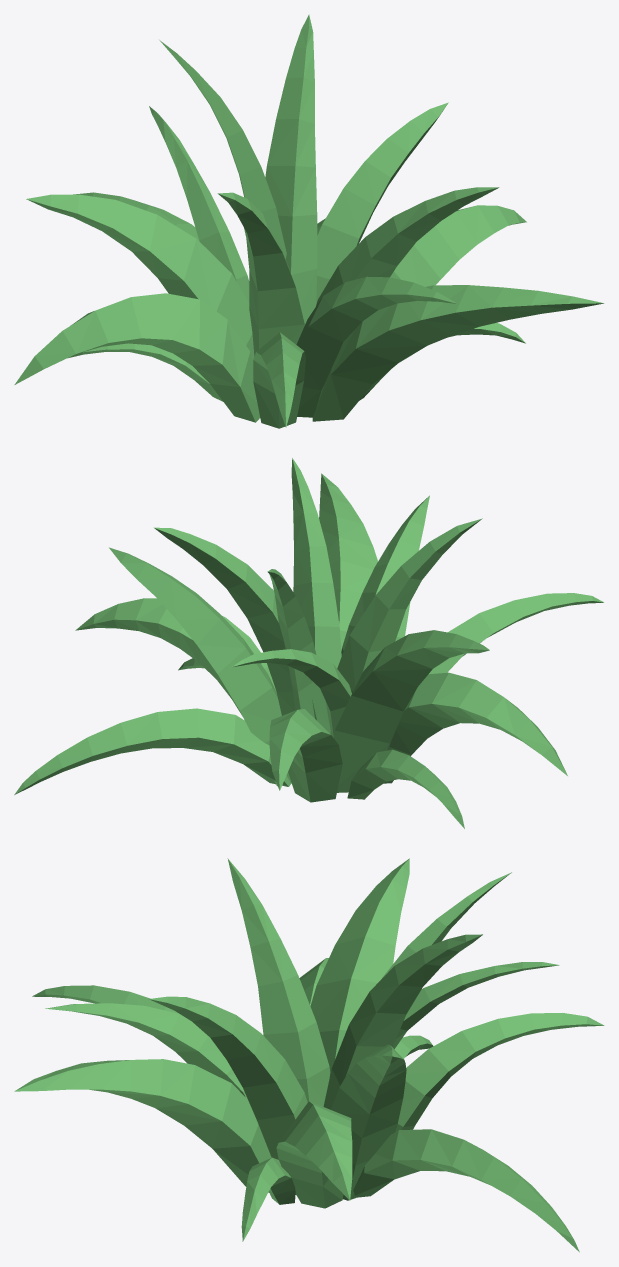
File: iwakusa.glb
3 views of the same model, one above another, from view 1: azimuth 30°, elevation 25°; view 2: azimuth 150°, elevation 25°; view 3: azimuth 270°, elevation 25° (orthographic). The views are drawn at different scales.
Parts seen in each view (by area): view 1: geometry_0; view 2: geometry_0; view 3: geometry_0.
Part boxes in pixels (box(x1,y1,x2,y2)): geometry_0: box(14, 14, 603, 428); geometry_0: box(14, 458, 603, 828); geometry_0: box(14, 858, 604, 1252).
Size of the model in its own units: 0.2671 by 0.146 by 0.2661.
